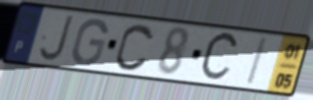8: (155, 25, 191, 79)
C: (197, 30, 241, 85), (113, 22, 157, 73)
G: (70, 18, 110, 67)
I: (243, 36, 270, 88)
J: (37, 13, 76, 64)
